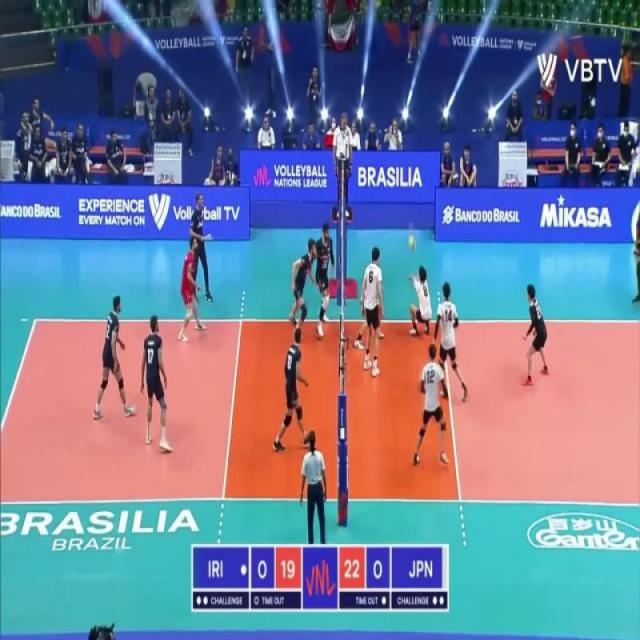volleyball: (408, 234, 416, 250)
